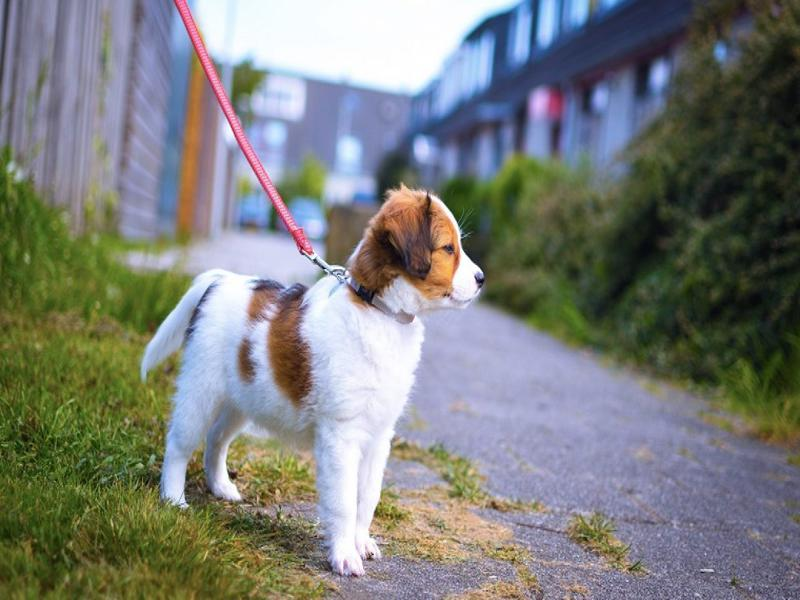dog_stand: (135, 181, 489, 581)
